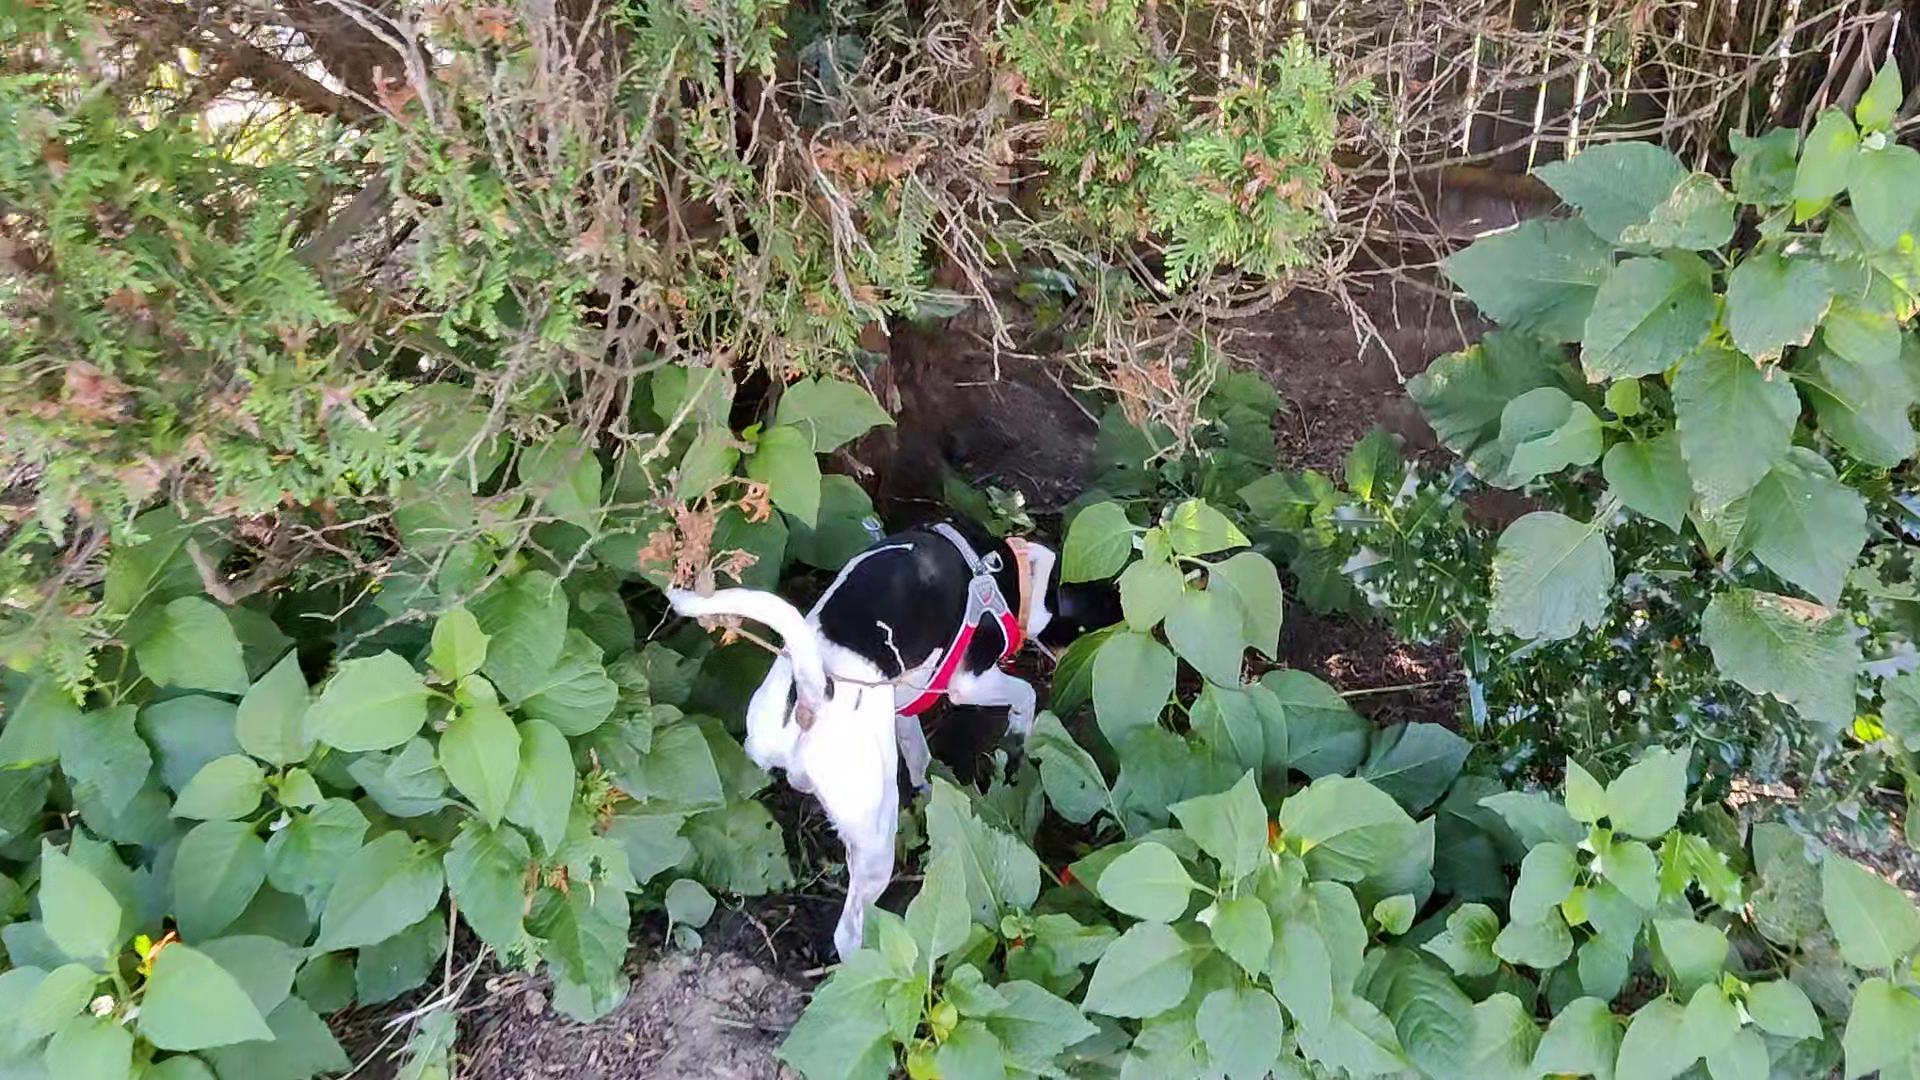Dog: (659, 495, 1124, 965)
